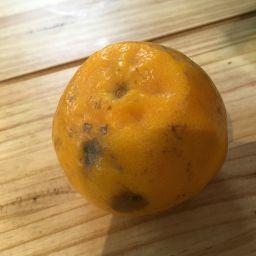Unripe: (54, 41, 229, 217)
